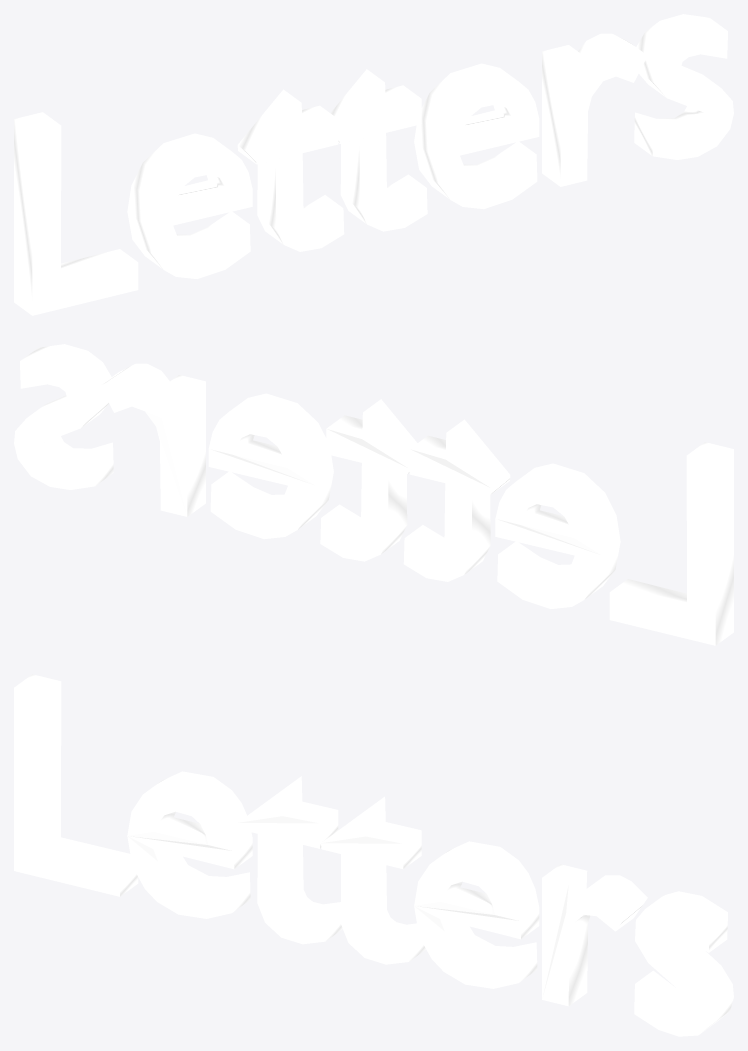
The model's file is textLetters.glb.
The picture shows the model from 3 angles, top to bottom: view 1: azimuth 30°, elevation 25°; view 2: azimuth 150°, elevation 25°; view 3: azimuth 330°, elevation 25°; orthographic projection.
Visible parts, largest first — view 1: TextLetters; view 2: TextLetters; view 3: TextLetters.
Part boxes in pixels (x1,y1,x2,y2): TextLetters: (14,14,733,315); TextLetters: (14,344,733,645); TextLetters: (14,674,733,1036).
Size of the model in its own units: 1.68 by 0.4272 by 0.0838.
Materials: 1 (1 with a texture image).
